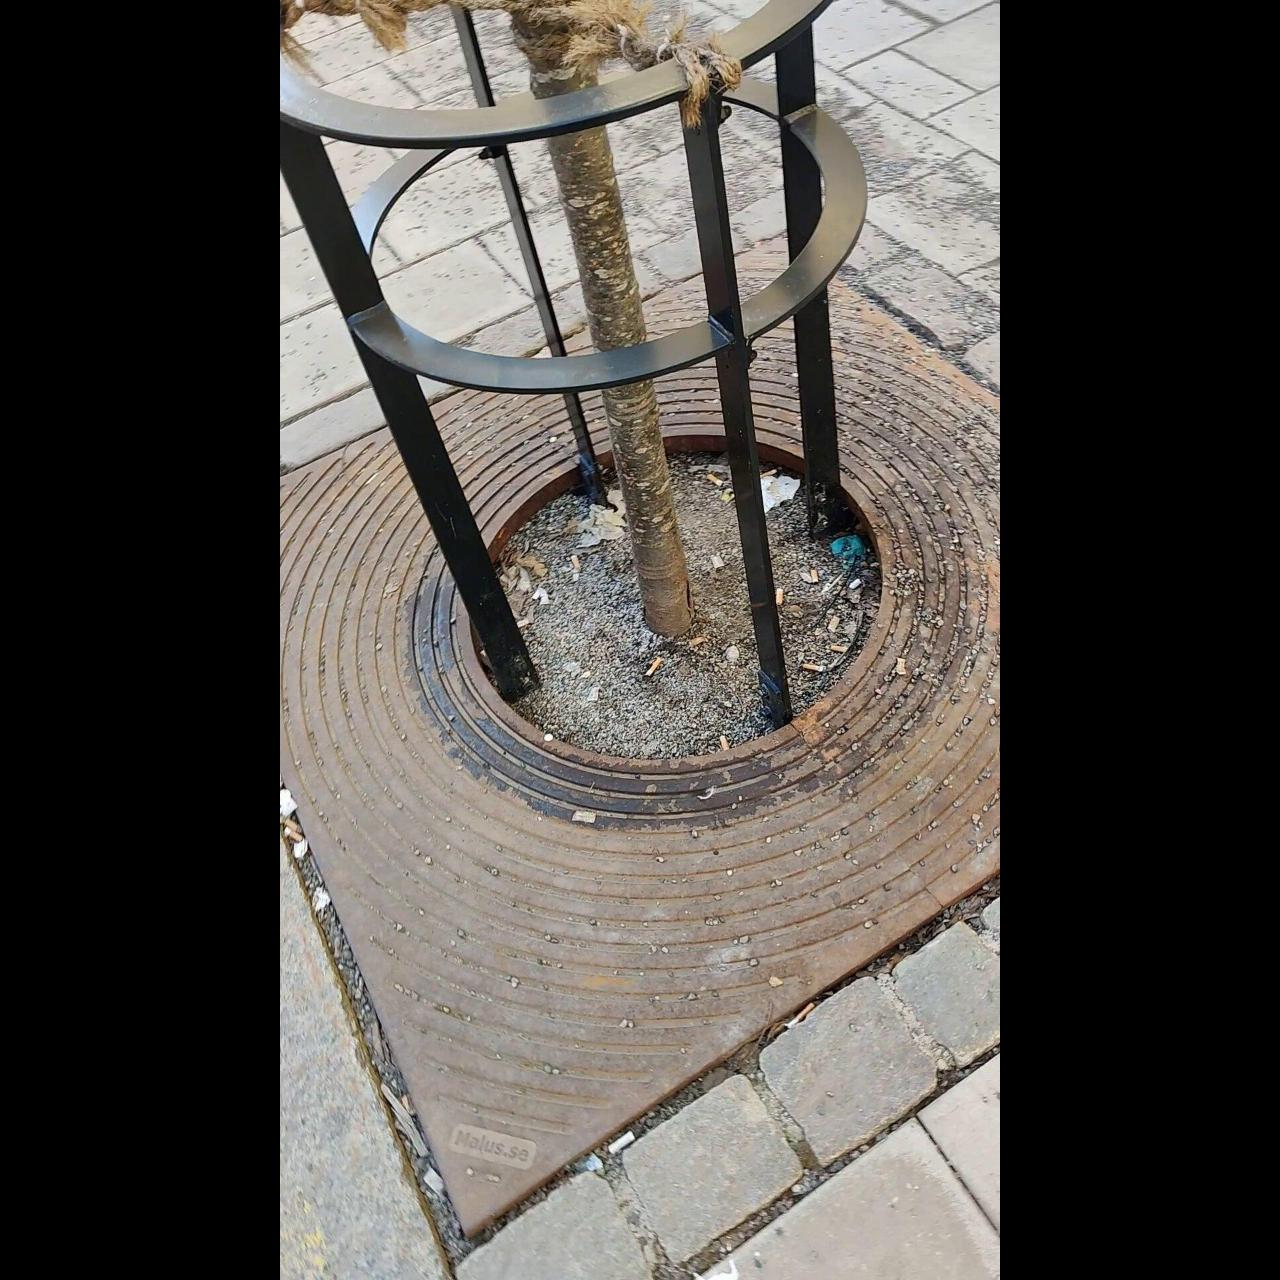cigarettes_butts: (783, 1000, 815, 1030), (645, 656, 661, 682), (704, 476, 728, 492), (282, 812, 301, 832), (716, 731, 731, 753), (282, 830, 306, 843), (802, 662, 826, 674), (829, 641, 847, 655), (689, 636, 707, 651), (809, 568, 822, 585), (571, 552, 581, 570), (826, 617, 838, 632), (762, 470, 782, 478), (778, 592, 787, 606)
others: (566, 806, 604, 829), (896, 654, 913, 682), (531, 585, 549, 607), (849, 581, 859, 591)
